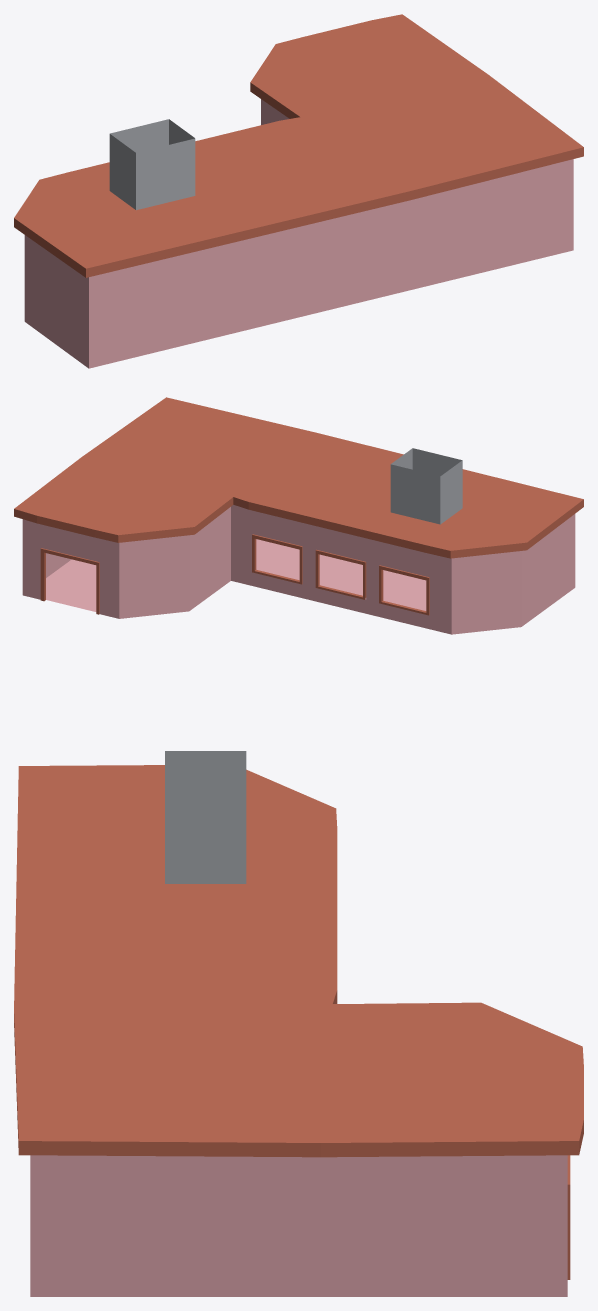
Rendered from Bld_R_high_L3_A.fbx.
3 renders of one model, top to bottom at view 1: azimuth 30°, elevation 25°; view 2: azimuth 150°, elevation 25°; view 3: azimuth 270°, elevation 25°, orthographic. The views are drawn at different scales.
Parts seen in each view (by area): view 1: Bld_R_high_L3_A_LOD0; view 2: Bld_R_high_L3_A_LOD0; view 3: Bld_R_high_L3_A_LOD0.
Part boxes in pixels (x1=…): Bld_R_high_L3_A_LOD0: x1=14, y1=14, x2=583, y2=368; Bld_R_high_L3_A_LOD0: x1=14, y1=397, x2=583, y2=634; Bld_R_high_L3_A_LOD0: x1=14, y1=751, x2=583, y2=1296.
Size of what is drawn, in the model's own units: 2200 by 996 by 1400.
Materials: 1 (1 with a texture image).
